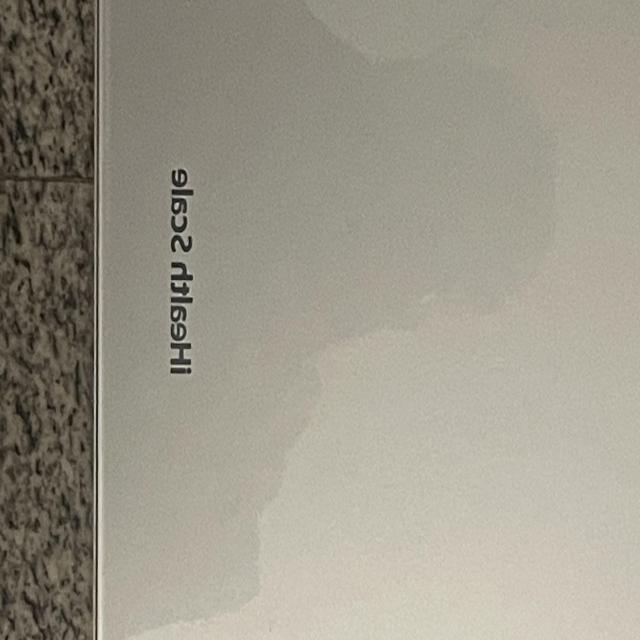ws: (92, 0, 640, 640)
